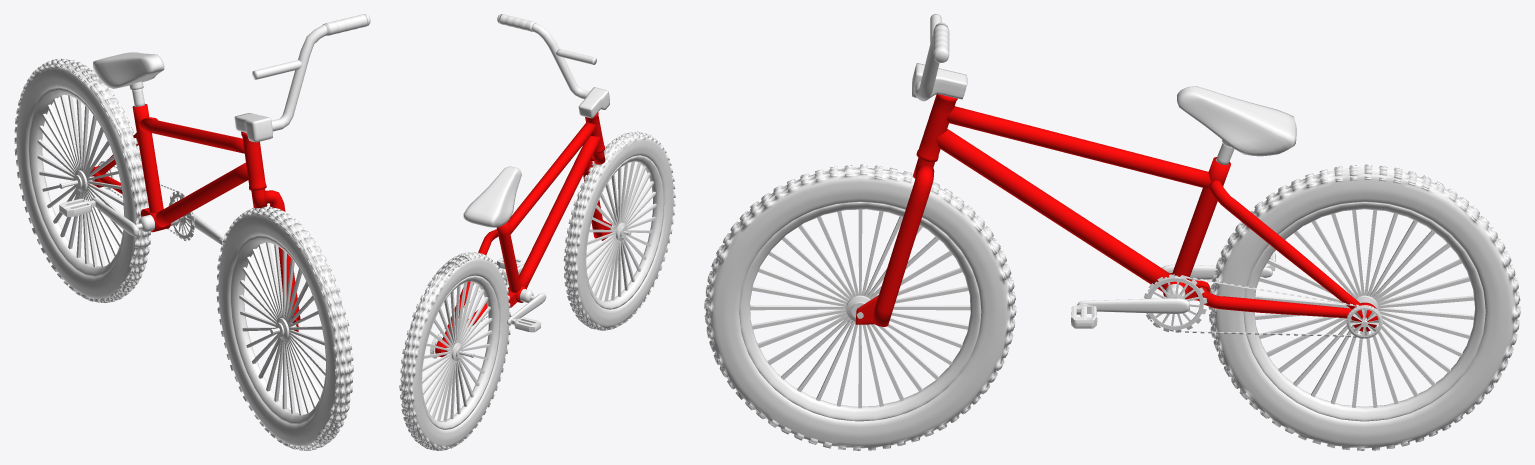
The model's file is cycle.glb.
3 views of the same model, side by side, from view 1: azimuth 30°, elevation 25°; view 2: azimuth 150°, elevation 25°; view 3: azimuth 270°, elevation 25° (orthographic). The views are drawn at different scales.
Visible parts, largest first — view 1: Circle.001, Circle.005, Cylinder.005, Cube.005; view 2: Circle.005, Circle.001, Cylinder.005, Cube.005; view 3: Circle.001, Circle.005, Cylinder.005, Cube.005, Plane.
Part boxes in pixels (x1,y1,x2,y2): Circle.001: [216, 206, 353, 450]; Circle.005: [14, 58, 151, 303]; Cylinder.005: [90, 14, 370, 331]; Cube.005: [59, 191, 226, 245]; Circle.005: [399, 252, 511, 450]; Circle.001: [563, 131, 675, 330]; Cylinder.005: [435, 14, 611, 357]; Cube.005: [496, 256, 546, 332]; Circle.001: [704, 164, 1016, 450]; Circle.005: [1208, 164, 1520, 450]; Cylinder.005: [855, 14, 1378, 331]; Cube.005: [1071, 251, 1275, 332]; Plane: [1145, 275, 1367, 337].
Bounding box in the file's own units: 2.91 × 5.91 × 9.31.
